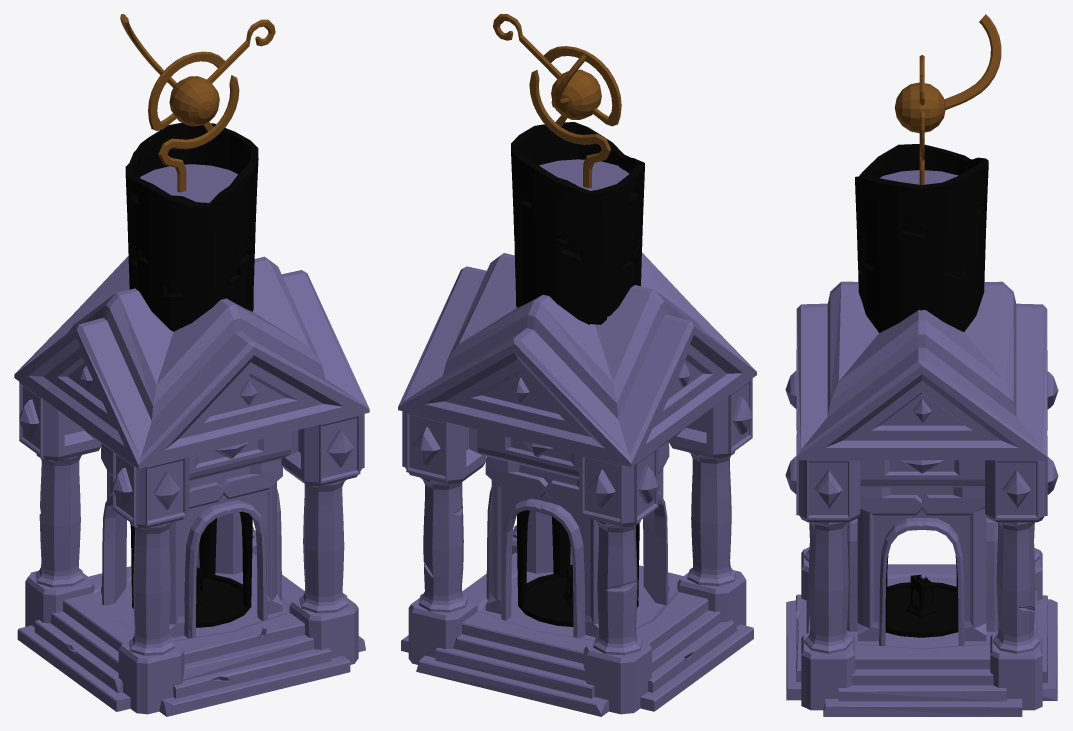
File: structure-elevator-observatory.fbx
3 renders of one model, left to right at view 1: azimuth 30°, elevation 25°; view 2: azimuth 150°, elevation 25°; view 3: azimuth 270°, elevation 25°, orthographic.
Parts seen in each view (by area): view 1: Base estructure, Cylinder039, Sphere008; view 2: Base estructure, Cylinder039, Sphere008; view 3: Base estructure, Cylinder039, Sphere008, Box045.
Boxes of the visible parts, <box> form: Base estructure: <box>14,256,369,716</box>; Cylinder039: <box>125,122,258,627</box>; Sphere008: <box>120,14,275,192</box>; Base estructure: <box>398,252,756,716</box>; Cylinder039: <box>511,122,644,626</box>; Sphere008: <box>493,14,621,188</box>; Base estructure: <box>785,281,1058,716</box>; Cylinder039: <box>855,144,988,637</box>; Sphere008: <box>894,14,1001,184</box>; Box045: <box>906,574,937,617</box>.
Bounding box in the file's own units: 1280 × 3000 × 1193.
